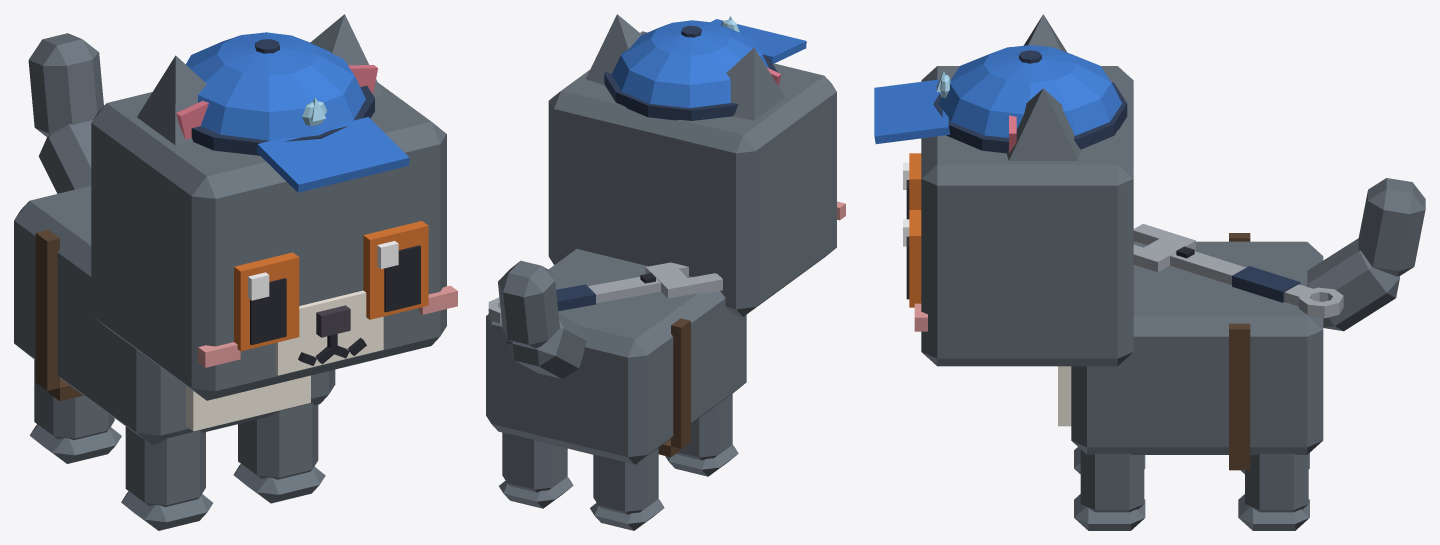
File: CatCafe_Cat_Plumber.fbx
The picture shows the model from 3 angles, left to right: view 1: azimuth 30°, elevation 25°; view 2: azimuth 150°, elevation 25°; view 3: azimuth 270°, elevation 25°; orthographic projection. The views are drawn at different scales.
Parts seen in each view (by area): view 1: CatCafe_Cat_Plumber_Head, CatCafe_Cat_Plumber_Body, CatCafe_Cat_Plumber_Prop, CatCafe_Cat_Plumber_Tail, CatCafe_Cat_Plumber_LegF2, CatCafe_Cat_Plumber_LegF1, CatCafe_Cat_Plumber_Eye2, CatCafe_Cat_Plumber_Eye1, CatCafe_Cat_Plumber_LegB2, CatCafe_Cat_Plumber_Prop2, CatCafe_Cat_Plumber_EarR, CatCafe_Cat_Plumber_EarL; view 2: CatCafe_Cat_Plumber_Head, CatCafe_Cat_Plumber_Body, CatCafe_Cat_Plumber_Prop, CatCafe_Cat_Plumber_Tail, CatCafe_Cat_Plumber_Prop2, CatCafe_Cat_Plumber_LegB2, CatCafe_Cat_Plumber_LegB1, CatCafe_Cat_Plumber_LegF2, CatCafe_Cat_Plumber_EarR, CatCafe_Cat_Plumber_EarL; view 3: CatCafe_Cat_Plumber_Head, CatCafe_Cat_Plumber_Body, CatCafe_Cat_Plumber_Prop, CatCafe_Cat_Plumber_Prop2, CatCafe_Cat_Plumber_Tail, CatCafe_Cat_Plumber_LegF1, CatCafe_Cat_Plumber_LegB1, CatCafe_Cat_Plumber_EarL, CatCafe_Cat_Plumber_Eye1, CatCafe_Cat_Plumber_Eye2, CatCafe_Cat_Plumber_EarR.
Boxes of the visible parts, <box> form: CatCafe_Cat_Plumber_Head: <box>91,82,457,400</box>; CatCafe_Cat_Plumber_Body: <box>14,186,335,444</box>; CatCafe_Cat_Plumber_Prop: <box>186,32,409,192</box>; CatCafe_Cat_Plumber_Tail: <box>28,33,103,193</box>; CatCafe_Cat_Plumber_LegF2: <box>121,426,212,530</box>; CatCafe_Cat_Plumber_LegF1: <box>233,403,325,503</box>; CatCafe_Cat_Plumber_Eye2: <box>234,252,299,351</box>; CatCafe_Cat_Plumber_Eye1: <box>363,221,428,319</box>; CatCafe_Cat_Plumber_LegB2: <box>30,359,121,463</box>; CatCafe_Cat_Plumber_Prop2: <box>35,230,83,401</box>; CatCafe_Cat_Plumber_EarR: <box>137,55,208,145</box>; CatCafe_Cat_Plumber_EarL: <box>310,14,383,96</box>; CatCafe_Cat_Plumber_Head: <box>548,31,845,316</box>; CatCafe_Cat_Plumber_Body: <box>486,249,746,464</box>; CatCafe_Cat_Plumber_Prop: <box>604,16,806,120</box>; CatCafe_Cat_Plumber_Tail: <box>498,260,586,378</box>; CatCafe_Cat_Plumber_Prop2: <box>488,262,722,457</box>; CatCafe_Cat_Plumber_LegB2: <box>590,448,664,530</box>; CatCafe_Cat_Plumber_LegB1: <box>499,432,573,508</box>; CatCafe_Cat_Plumber_LegF2: <box>665,393,738,476</box>; CatCafe_Cat_Plumber_EarR: <box>726,47,785,120</box>; CatCafe_Cat_Plumber_EarL: <box>586,14,641,85</box>; CatCafe_Cat_Plumber_Head: <box>914,66,1133,366</box>; CatCafe_Cat_Plumber_Body: <box>1058,241,1323,454</box>; CatCafe_Cat_Plumber_Prop: <box>874,45,1127,153</box>; CatCafe_Cat_Plumber_Prop2: <box>1133,224,1343,470</box>; CatCafe_Cat_Plumber_Tail: <box>1307,178,1425,331</box>; CatCafe_Cat_Plumber_LegF1: <box>1074,449,1145,530</box>; CatCafe_Cat_Plumber_LegB1: <box>1238,453,1309,530</box>; CatCafe_Cat_Plumber_EarL: <box>1007,88,1080,160</box>; CatCafe_Cat_Plumber_Eye1: <box>903,210,921,307</box>; CatCafe_Cat_Plumber_Eye2: <box>903,153,921,219</box>; CatCafe_Cat_Plumber_EarR: <box>1009,14,1067,52</box>.
Size of the model in its own units: 1 by 1.86 by 2.08.
Materials: 1 (1 with a texture image).
